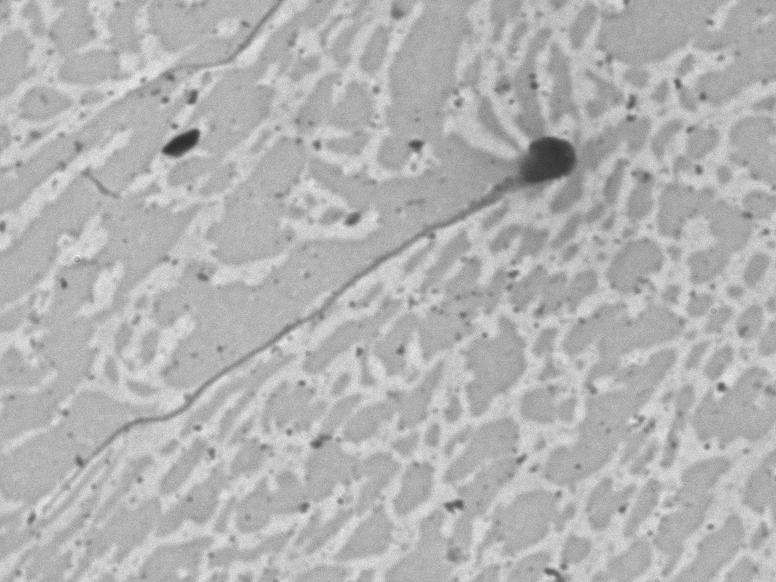Abnormal: (25, 123, 583, 529)
